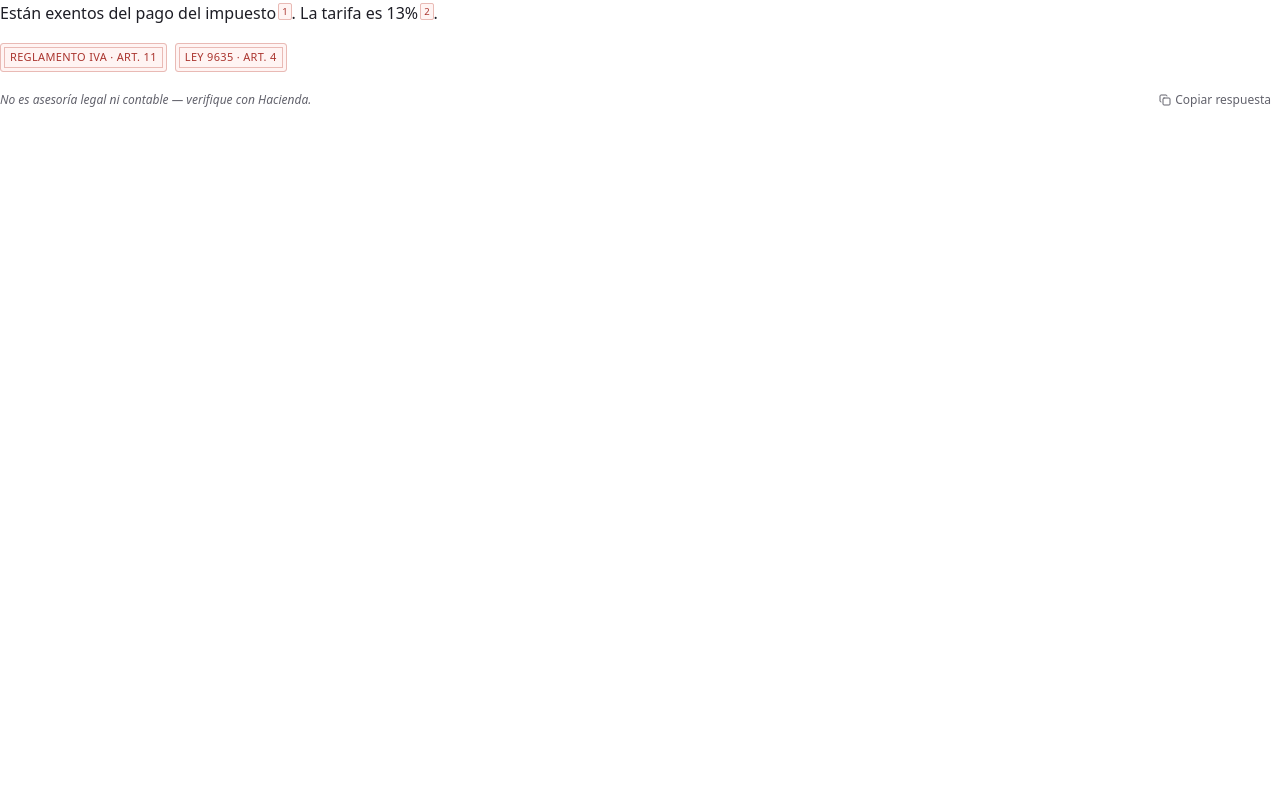
Scenario: AnswerBlock › inline references (#133) › brings the source to the claim on click, with no jump to the row
The image size is (1280, 800).
Click the button named "Fuente 2:" at (427, 12), box x1=420 y1=3 x2=434 y2=20
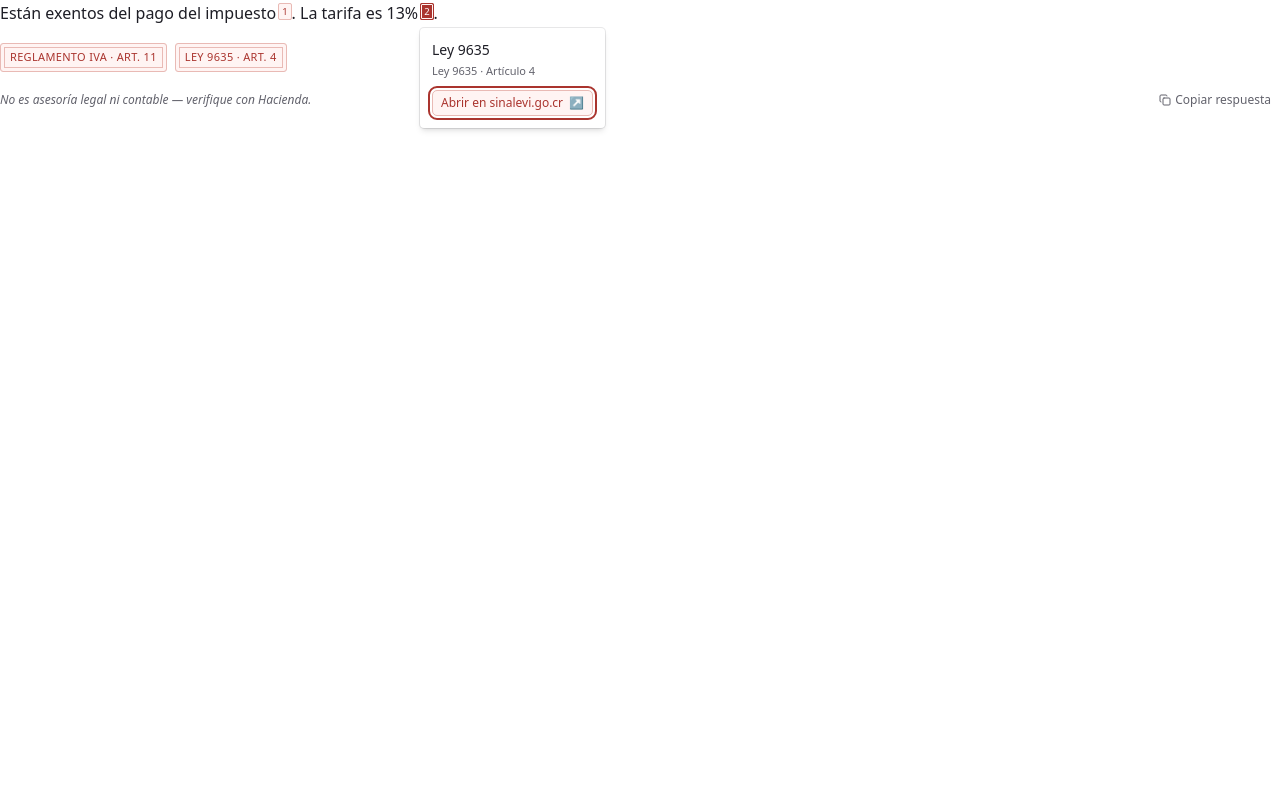
Now the text "Ley 9635" is shown, box x1=432 y1=40 x2=490 y2=59
